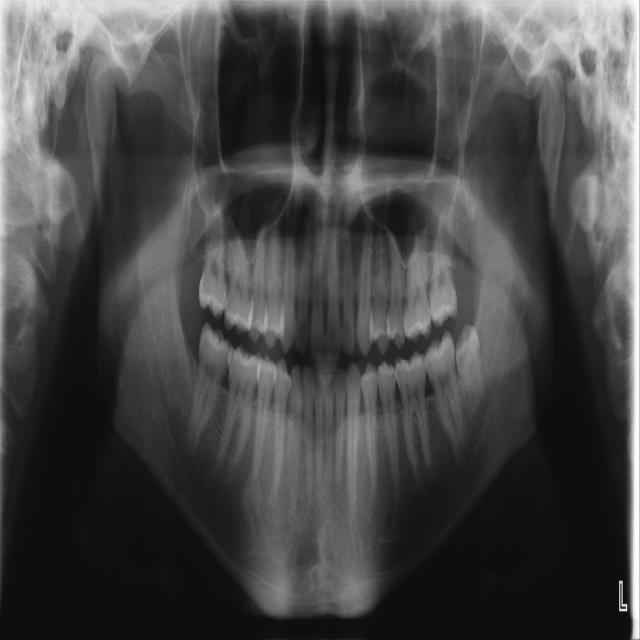impacted tooth: (455, 324, 488, 405)
